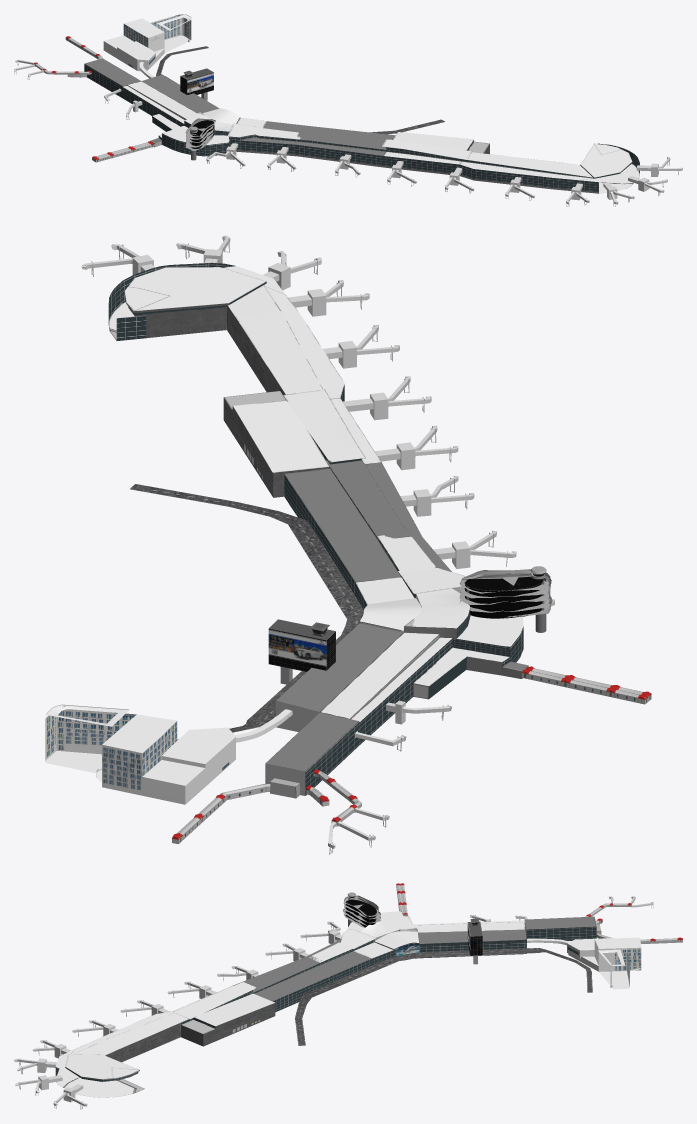
The model's file is CYEG (1).gltf.
The picture shows the model from 3 angles, top to bottom: view 1: azimuth 30°, elevation 25°; view 2: azimuth 150°, elevation 25°; view 3: azimuth 270°, elevation 25°; orthographic projection. The views are drawn at different scales.
Visible parts, largest first — view 1: Cube, Cube.048, Cube.001, Cube.050, Cylinder, Cube.041; view 2: Cube, Cube.048, Cube.050, Cube.001, Cylinder, Cube.042, Cube.043; view 3: Cube, Cube.048, Cube.050, Cylinder, Cube.001.
Boxes of the visible parts, bbox=[...] form: Cube: bbox=[84, 58, 639, 193]; Cube.048: bbox=[103, 14, 191, 71]; Cube.001: bbox=[180, 68, 213, 100]; Cube.050: bbox=[156, 46, 444, 134]; Cylinder: bbox=[190, 120, 213, 149]; Cube.041: bbox=[94, 142, 154, 162]; Cube: bbox=[108, 262, 528, 798]; Cube.048: bbox=[45, 704, 235, 804]; Cube.050: bbox=[130, 484, 363, 739]; Cube.001: bbox=[268, 619, 335, 684]; Cylinder: bbox=[464, 576, 543, 618]; Cube.042: bbox=[522, 669, 648, 704]; Cube.043: bbox=[172, 784, 270, 843]; Cube: bbox=[55, 911, 601, 1097]; Cube.048: bbox=[567, 937, 641, 989]; Cube.050: bbox=[295, 948, 592, 1045]; Cylinder: bbox=[345, 899, 376, 927]; Cube.001: bbox=[467, 921, 482, 964].
Size of the model in its own units: 999 by 71.71 by 1256.
